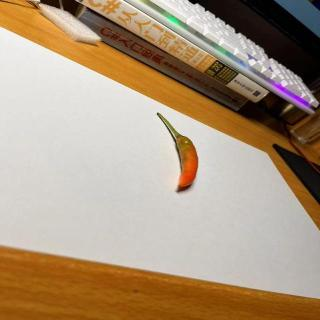Cabai Merah: (157, 113, 199, 189)
